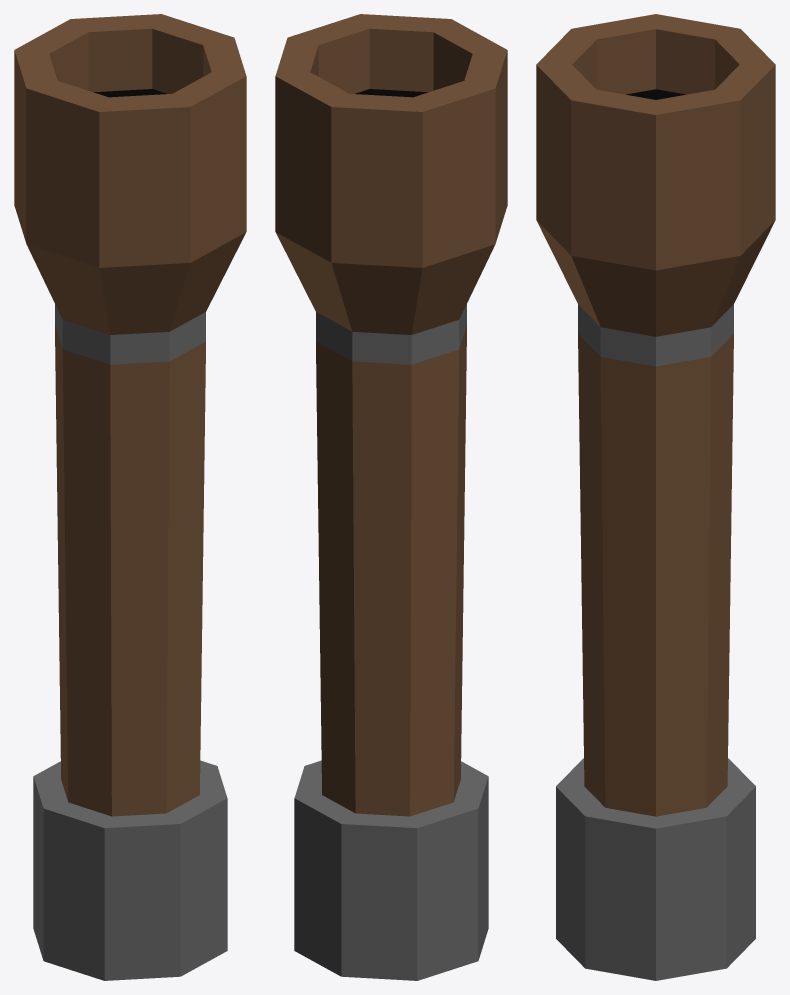
The model's file is Torch.fbx.
The picture shows the model from 3 angles, left to right: view 1: azimuth 30°, elevation 25°; view 2: azimuth 150°, elevation 25°; view 3: azimuth 270°, elevation 25°; orthographic projection.
Parts seen in each view (by area): view 1: Cylinder, Cylinder.002; view 2: Cylinder, Cylinder.002; view 3: Cylinder, Cylinder.002.
Boxes of the visible parts, box(x1,y1,x2,y2) form: Cylinder: box(14, 14, 246, 816); Cylinder.002: box(33, 304, 227, 980); Cylinder: box(275, 14, 507, 816); Cylinder.002: box(294, 304, 488, 980); Cylinder: box(536, 14, 775, 816); Cylinder.002: box(556, 304, 755, 980).
Size of the model in its own units: 172 by 695 by 172.
